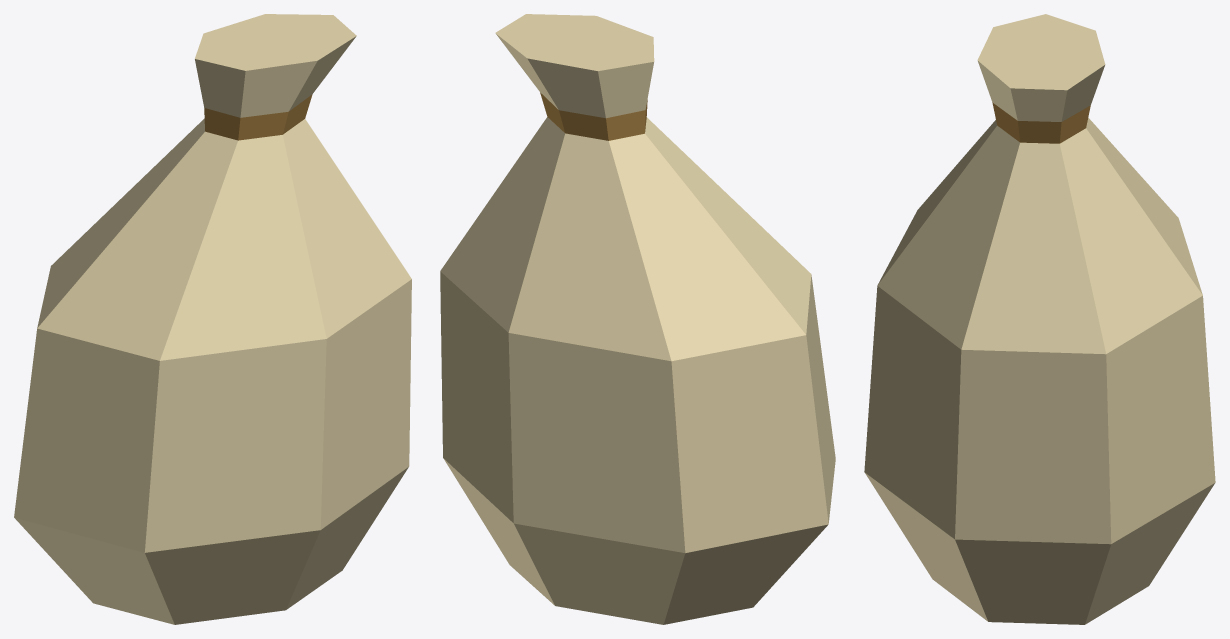
The model's file is grain_sack.glb.
3 views of the same model, side by side, from view 1: azimuth 30°, elevation 25°; view 2: azimuth 150°, elevation 25°; view 3: azimuth 270°, elevation 25° (orthographic). The views are drawn at different scales.
Visible parts, largest first — view 1: Grain sack; view 2: Grain sack; view 3: Grain sack.
Boxes of the visible parts, left/top/right/bottom form: Grain sack: left=14, top=14, right=411, bottom=624; Grain sack: left=440, top=14, right=835, bottom=624; Grain sack: left=864, top=14, right=1215, bottom=624.
Size of the model in its own units: 0.4779 by 0.655 by 0.3816.
